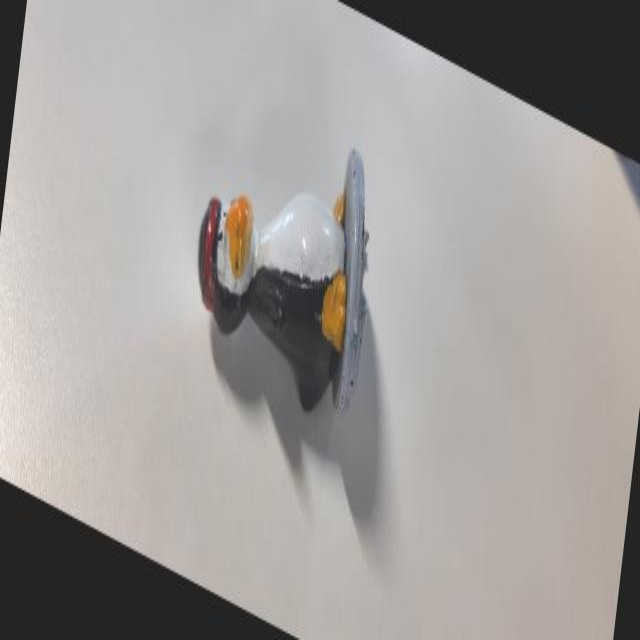Penguin: (180, 53, 387, 465)
